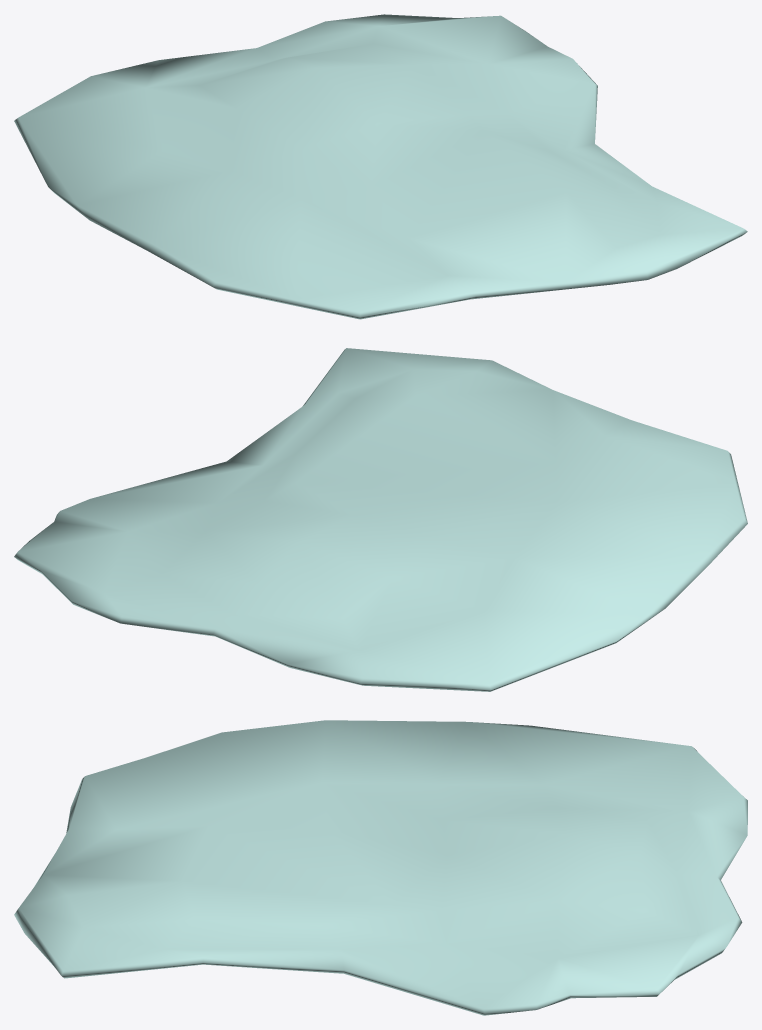
File: subirikintisi.fbx
3 views of the same model, one above another, from view 1: azimuth 30°, elevation 25°; view 2: azimuth 150°, elevation 25°; view 3: azimuth 270°, elevation 25° (orthographic). The views are drawn at different scales.
Visible parts, largest first — view 1: Plane; view 2: Plane; view 3: Plane.
Part boxes in pixels (bbox=[...]): Plane: bbox=[14, 14, 747, 319]; Plane: bbox=[14, 348, 747, 691]; Plane: bbox=[14, 720, 747, 1015].
Size of the model in its own units: 149 by 14.23 by 167.
